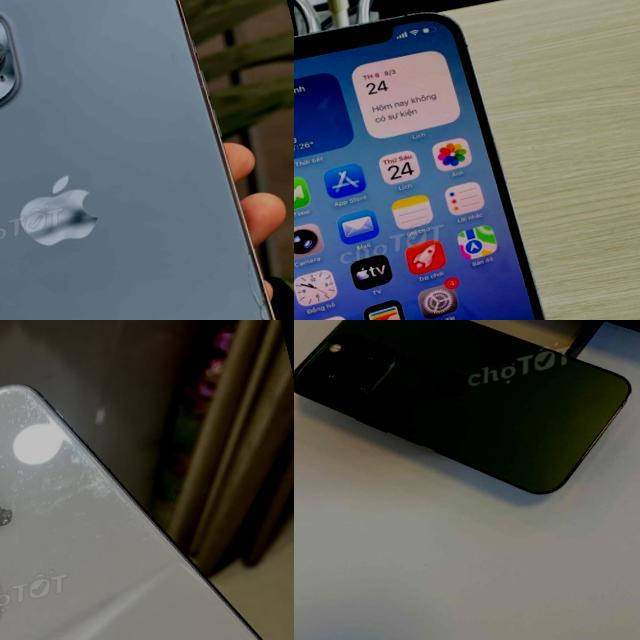gen_12_13: (0, 0, 294, 320), (294, 0, 585, 320), (294, 320, 640, 550)
gen_x_xs: (0, 320, 294, 640)
scratch: (0, 364, 126, 544)
